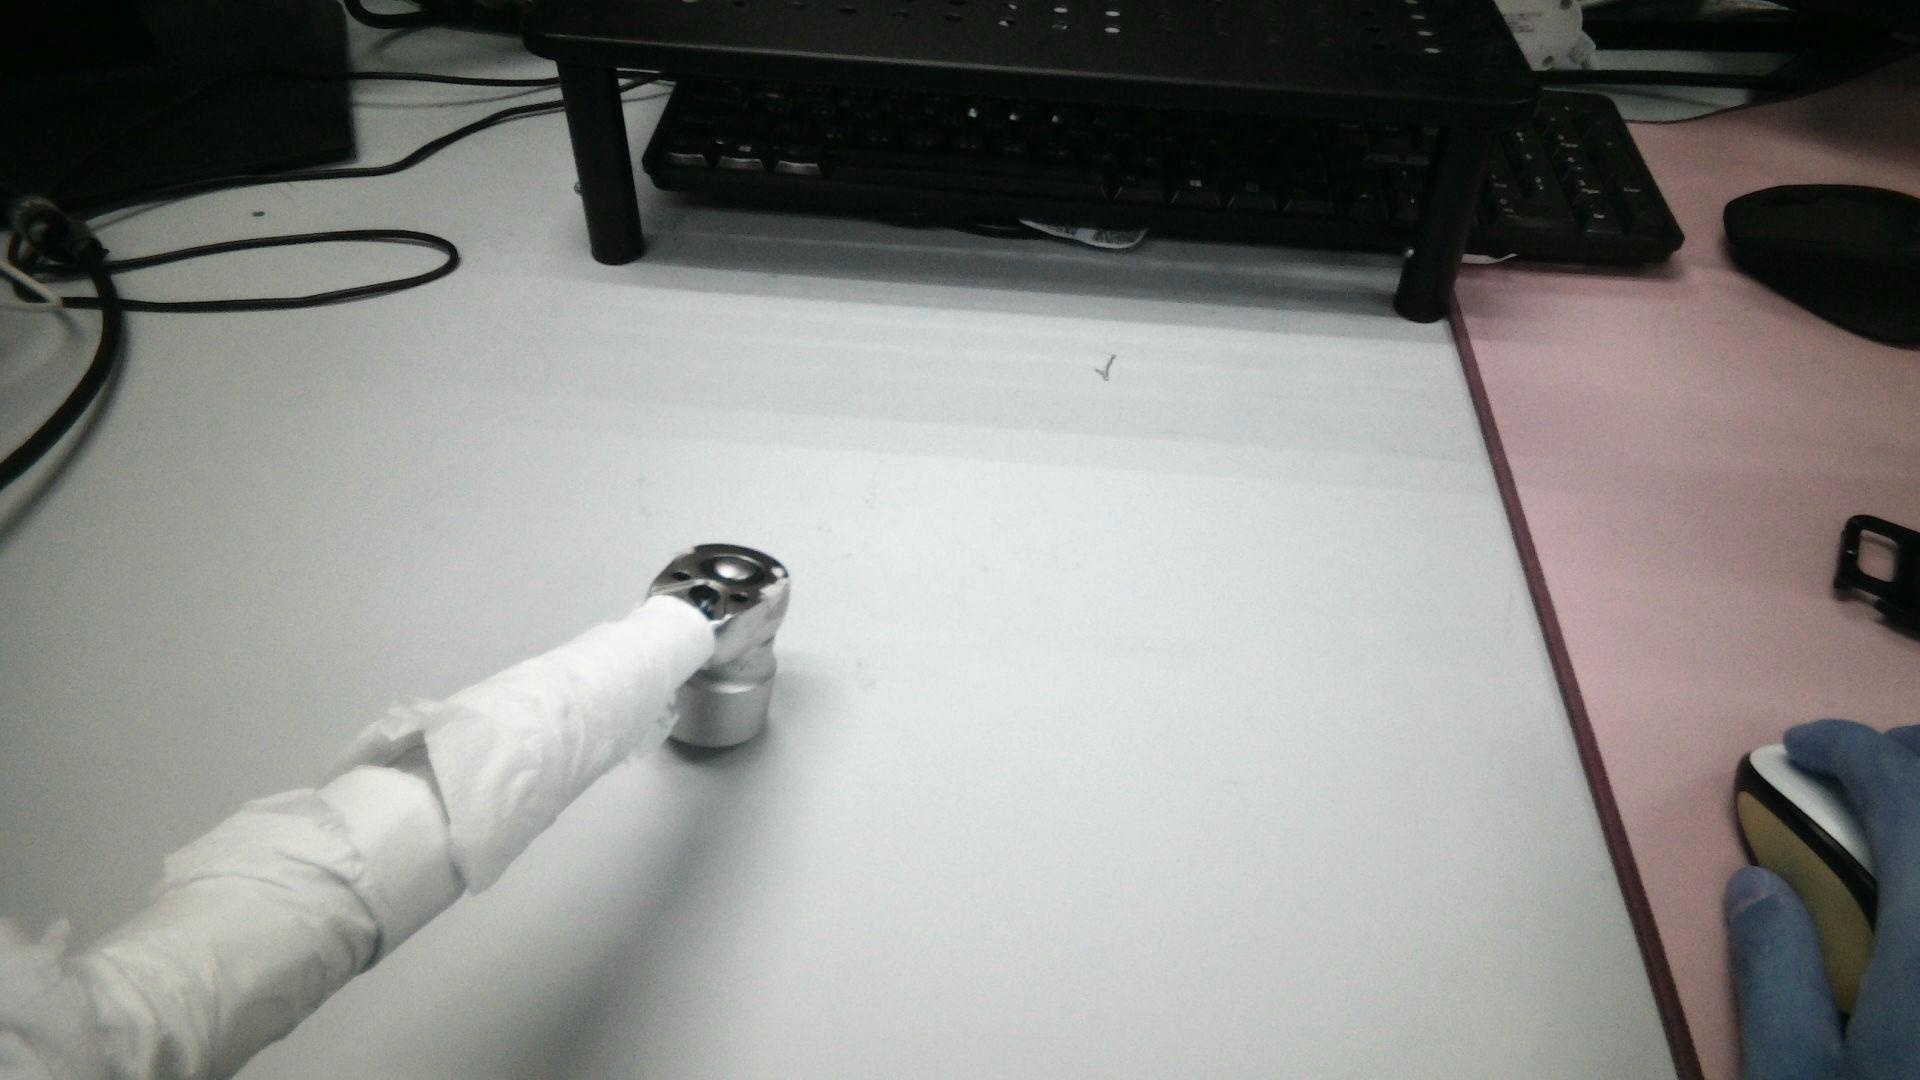wrench: (702, 549, 765, 589)
